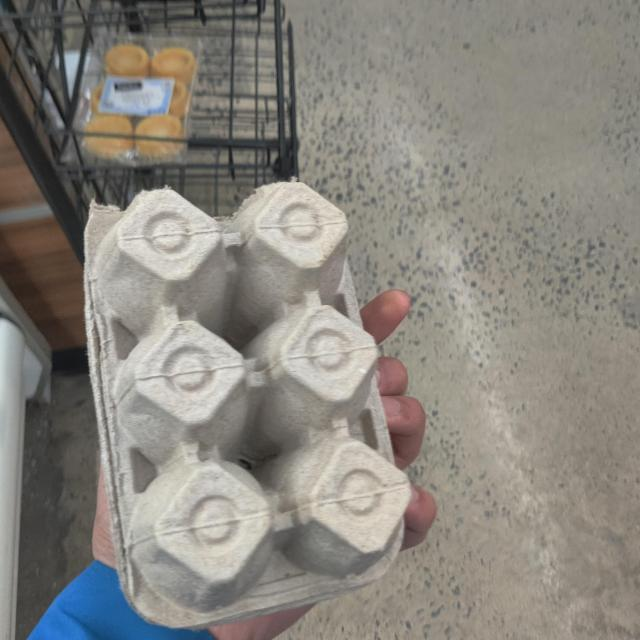egg: (81, 185, 405, 616)
